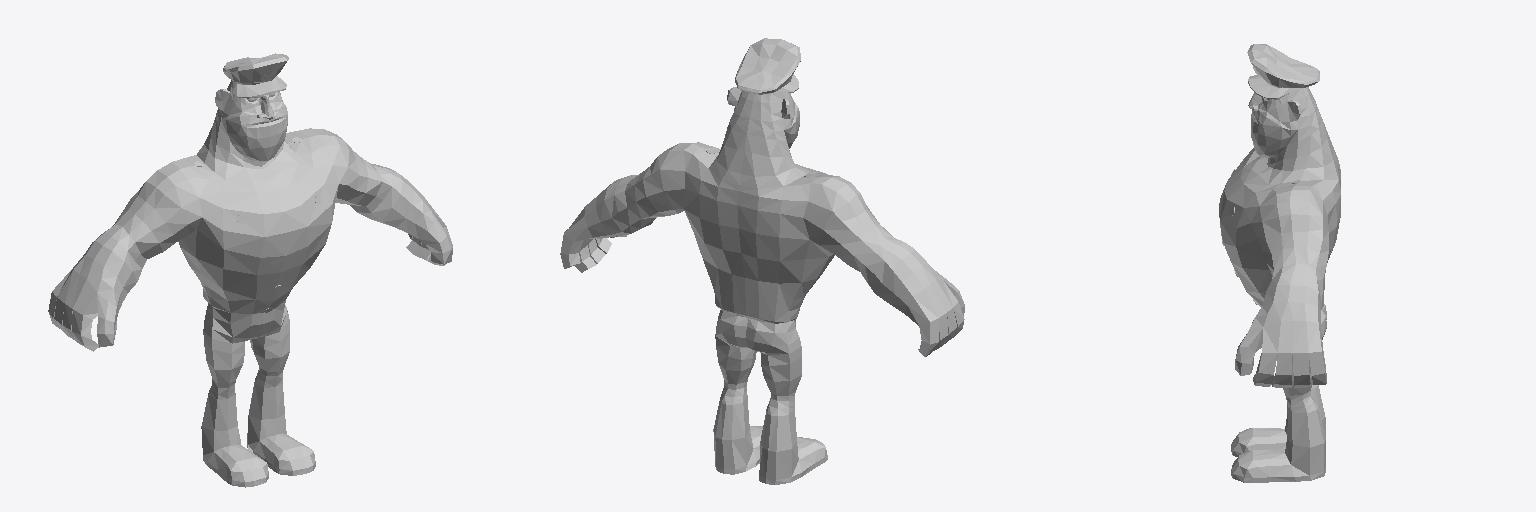
Rendered from Earl.obj.
3 views of the same model, side by side, from view 1: azimuth 30°, elevation 25°; view 2: azimuth 150°, elevation 25°; view 3: azimuth 270°, elevation 25° (orthographic).
Parts seen in each view (by area): view 1: Earl_NurbsCurve; view 2: Earl_NurbsCurve; view 3: Earl_NurbsCurve.
Boxes of the visible parts, x1,y1,x2,y2 form: Earl_NurbsCurve: [48, 53, 452, 487]; Earl_NurbsCurve: [560, 38, 964, 484]; Earl_NurbsCurve: [1219, 44, 1340, 482].
Size of the model in its own units: 1.9 by 1.99 by 0.5368.